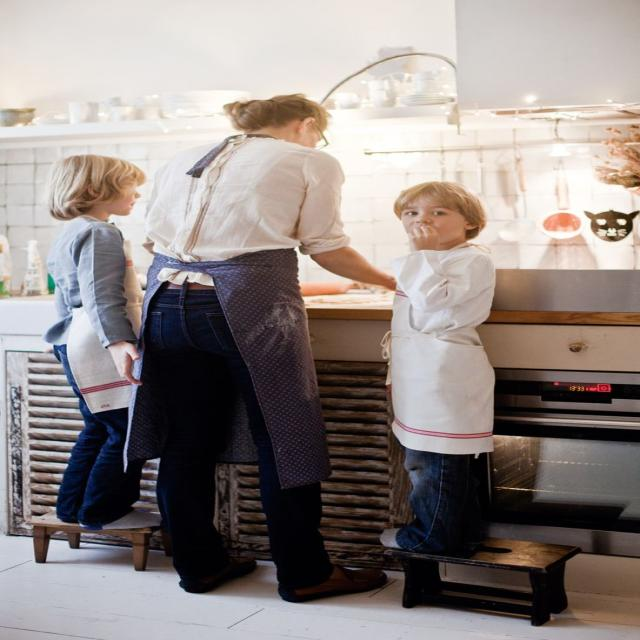person: (126, 92, 398, 602), (42, 153, 159, 531), (380, 180, 497, 558)
